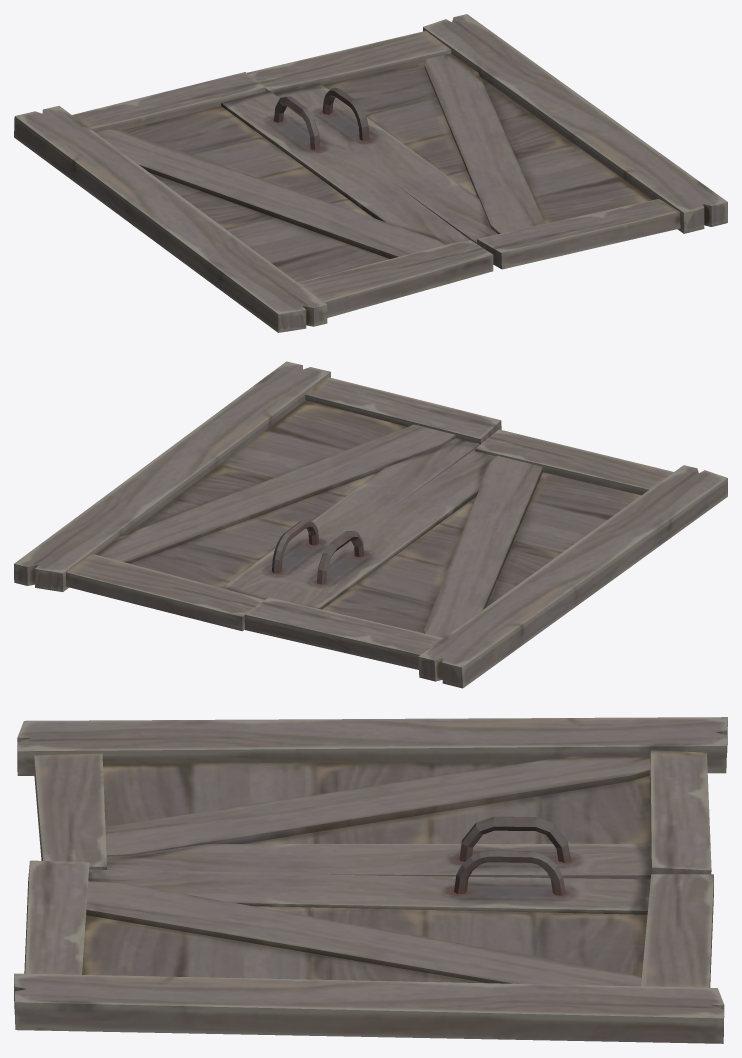
The model's file is P_CellarDoor_001_S1_M01.obj.
3 views of the same model, one above another, from view 1: azimuth 30°, elevation 25°; view 2: azimuth 150°, elevation 25°; view 3: azimuth 270°, elevation 25° (orthographic). The views are drawn at different scales.
Size of the model in its own units: 1.98 by 0.2047 by 2.03.
2 materials, 2 textured.
